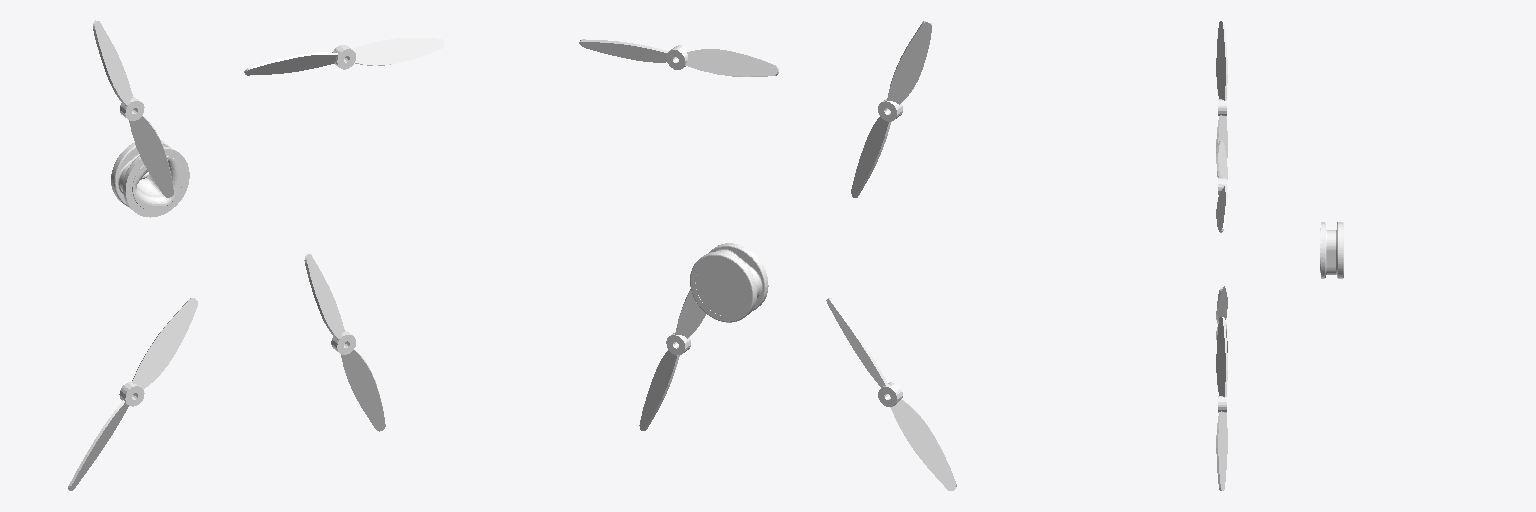
URDF robot description (drone):
<?xml version="1.0" encoding="utf-8"?>
<!-- This URDF was automatically created by SolidWorks to URDF Exporter! Originally created by [author] ([email redacted]) 
     Commit Version: 1.6.0-4-g7f85cfe  Build Version: 1.6.7995.38578
     For more information, please see http://wiki.ros.org/sw_urdf_exporter -->
<robot
  name="drone">
  <link
    name="base_link">
    <inertial>
      <origin
        xyz="0.015986 -0.02573 0.24751"
        rpy="0 0 0" />
      <mass
        value="1.128" />
      <inertia
        ixx="0.0030744"
        ixy="1.1642E-06"
        ixz="-7.2631E-05"
        iyy="0.0050956"
        iyz="2.9256E-07"
        izz="0.0076564" />
    </inertial>
    <visual>
      <origin
        xyz="0 0 0"
        rpy="0 0 0" />
      <geometry>
        <mesh
          filename="package://drone/meshes/base_link.STL" />
      </geometry>
      <material
        name="">
        <color
          rgba="1 1 1 1" />
      </material>
    </visual>
    <collision>
      <origin
        xyz="0 0 0"
        rpy="0 0 0" />
      <geometry>
        <mesh
          filename="package://drone/meshes/base_link.STL" />
      </geometry>
    </collision>
  </link>
  <link
    name="link1">
    <inertial>
      <origin
        xyz="1.1432E-08 9.3684E-08 0.0045517"
        rpy="0 0 0" />
      <mass
        value="0.0050793" />
      <inertia
        ixx="7.3747E-06"
        ixy="-2.1019E-07"
        ixz="-9.4002E-13"
        iyy="1.0257E-07"
        iyz="-3.4396E-12"
        izz="7.4268E-06" />
    </inertial>
    <visual>
      <origin
        xyz="0 0 0"
        rpy="0 0 0" />
      <geometry>
        <mesh
          filename="package://drone/meshes/link1.STL" />
      </geometry>
      <material
        name="">
        <color
          rgba="1 1 1 1" />
      </material>
    </visual>
    <collision>
      <origin
        xyz="0 0 0"
        rpy="0 0 0" />
      <geometry>
        <mesh
          filename="package://drone/meshes/link1.STL" />
      </geometry>
    </collision>
  </link>
  <joint
    name="joint1"
    type="continuous">
    <origin
      xyz="-0.065202 -0.2775 -0.13196"
      rpy="-1.5708 -0.66861 3.1416" />
    <parent
      link="base_link" />
    <child
      link="link1" />
    <axis
      xyz="0 0 1" />
  </joint>
  <link
    name="link2">
    <inertial>
      <origin
        xyz="6.6062E-09 -5.727E-08 0.0045478"
        rpy="0 0 0" />
      <mass
        value="0.0050776" />
      <inertia
        ixx="7.3696E-06"
        ixy="2.1017E-07"
        ixz="-7.5917E-13"
        iyy="1.0258E-07"
        iyz="5.9289E-13"
        izz="7.4217E-06" />
    </inertial>
    <visual>
      <origin
        xyz="0 0 0"
        rpy="0 0 0" />
      <geometry>
        <mesh
          filename="package://drone/meshes/link2.STL" />
      </geometry>
      <material
        name="">
        <color
          rgba="1 1 1 1" />
      </material>
    </visual>
    <collision>
      <origin
        xyz="0 0 0"
        rpy="0 0 0" />
      <geometry>
        <mesh
          filename="package://drone/meshes/link2.STL" />
      </geometry>
    </collision>
  </link>
  <joint
    name="joint2"
    type="continuous">
    <origin
      xyz="0.099798 -0.2775 -0.13196"
      rpy="-1.5708 0.36848 -3.1416" />
    <parent
      link="base_link" />
    <child
      link="link2" />
    <axis
      xyz="0 0 1" />
  </joint>
  <link
    name="link3">
    <inertial>
      <origin
        xyz="6.6062E-09 -5.727E-08 0.0045478"
        rpy="0 0 0" />
      <mass
        value="0.0050776" />
      <inertia
        ixx="7.3696E-06"
        ixy="2.1017E-07"
        ixz="-7.5917E-13"
        iyy="1.0258E-07"
        iyz="5.9289E-13"
        izz="7.4217E-06" />
    </inertial>
    <visual>
      <origin
        xyz="0 0 0"
        rpy="0 0 0" />
      <geometry>
        <mesh
          filename="package://drone/meshes/link3.STL" />
      </geometry>
      <material
        name="">
        <color
          rgba="1 1 1 1" />
      </material>
    </visual>
    <collision>
      <origin
        xyz="0 0 0"
        rpy="0 0 0" />
      <geometry>
        <mesh
          filename="package://drone/meshes/link3.STL" />
      </geometry>
    </collision>
  </link>
  <joint
    name="joint3"
    type="continuous">
    <origin
      xyz="-0.065202 -0.2775 0.080545"
      rpy="-1.5708 0.36848 -3.1416" />
    <parent
      link="base_link" />
    <child
      link="link3" />
    <axis
      xyz="0 0 1" />
  </joint>
  <link
    name="link4">
    <inertial>
      <origin
        xyz="1.1432E-08 9.3684E-08 0.0045516"
        rpy="0 0 0" />
      <mass
        value="0.0050793" />
      <inertia
        ixx="7.3746E-06"
        ixy="-2.102E-07"
        ixz="-9.4002E-13"
        iyy="1.0262E-07"
        iyz="-3.4396E-12"
        izz="7.4268E-06" />
    </inertial>
    <visual>
      <origin
        xyz="0 0 0"
        rpy="0 0 0" />
      <geometry>
        <mesh
          filename="package://drone/meshes/link4.STL" />
      </geometry>
      <material
        name="">
        <color
          rgba="1 1 1 1" />
      </material>
    </visual>
    <collision>
      <origin
        xyz="0 0 0"
        rpy="0 0 0" />
      <geometry>
        <mesh
          filename="package://drone/meshes/link4.STL" />
      </geometry>
    </collision>
  </link>
  <joint
    name="joint4"
    type="continuous">
    <origin
      xyz="0.099798 -0.2775 0.080545"
      rpy="1.5708 -1.4927 0" />
    <parent
      link="base_link" />
    <child
      link="link4" />
    <axis
      xyz="0 0 1" />
  </joint>
  <link
    name="link5">
    <inertial>
      <origin
        xyz="0 0 0"
        rpy="0 0 0" />
      <mass
        value="0" />
      <inertia
        ixx="0"
        ixy="0"
        ixz="0"
        iyy="0"
        iyz="0"
        izz="0" />
    </inertial>
    <visual>
      <origin
        xyz="0 0 0"
        rpy="0 0 0" />
      <geometry>
        <mesh
          filename="package://drone/meshes/link5.STL" />
      </geometry>
      <material
        name="">
        <color
          rgba="1 1 1 1" />
      </material>
    </visual>
    <collision>
      <origin
        xyz="0 0 0"
        rpy="0 0 0" />
      <geometry>
        <mesh
          filename="package://drone/meshes/link5.STL" />
      </geometry>
    </collision>
  </link>
  <joint
    name="joint5"
    type="prismatic">
    <origin
      xyz="0.0047981 -0.1925 -0.025997"
      rpy="-1.5708 0.5236 -3.1416" />
    <parent
      link="base_link" />
    <child
      link="link5" />
    <axis
      xyz="0 0 1" />
  </joint>
</robot>

--- Facts derived from the render (not from the file) ---
Views: 3 orthographic renders of the robot side by side, from view 1: azimuth 30°, elevation 25°; view 2: azimuth 150°, elevation 25°; view 3: azimuth 270°, elevation 25°.
Robot: drone — 6 links, 5 joints (4 continuous, 1 prismatic); root link base_link; default pose: all joints at 0.
Links seen in each view (by area): view 1: link1, link4, link5, link3, link2; view 2: link5, link1, link4, link3, link2; view 3: link2, link3, link5, link4.
Boxes of the visible links, x1,y1,x2,y2 form: link1: (68,298,197,490); link4: (244,38,443,75); link5: (111,140,189,217); link3: (93,20,173,197); link2: (304,254,385,431); link5: (690,243,768,322); link1: (826,298,956,490); link4: (579,39,778,76); link3: (851,21,931,197); link2: (639,289,705,430); link2: (1216,317,1227,490); link3: (1216,21,1227,177); link5: (1320,222,1343,278); link4: (1216,140,1227,232).
Size in the robot's own frame: 0.2928 by 0.1129 by 0.3571 metres.
5 mesh visuals loaded from 6 distinct referenced files (5 binary STL); not drawn: 1 (reference not matched to a file when rendering).